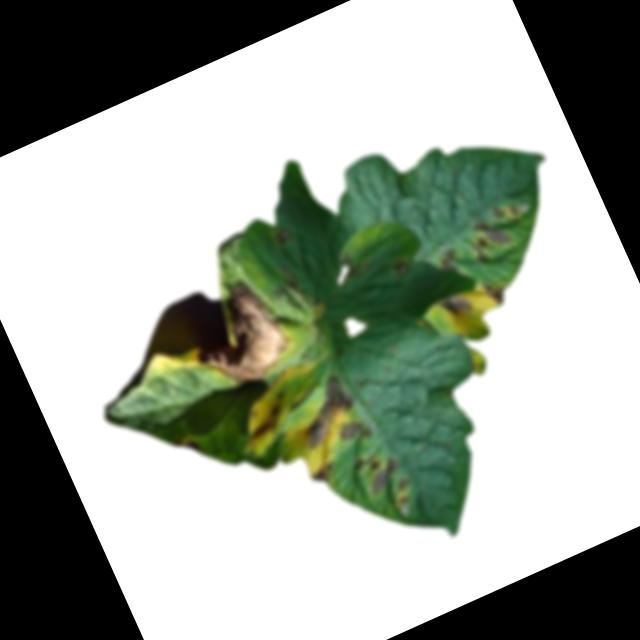Early_blight: (176, 274, 299, 402), (285, 367, 368, 452), (350, 441, 424, 526), (458, 193, 540, 268), (237, 389, 298, 445), (433, 288, 476, 327), (337, 414, 375, 448), (307, 457, 344, 490), (479, 274, 512, 310), (434, 247, 464, 277), (389, 255, 415, 283), (178, 437, 203, 466), (273, 226, 297, 249)
